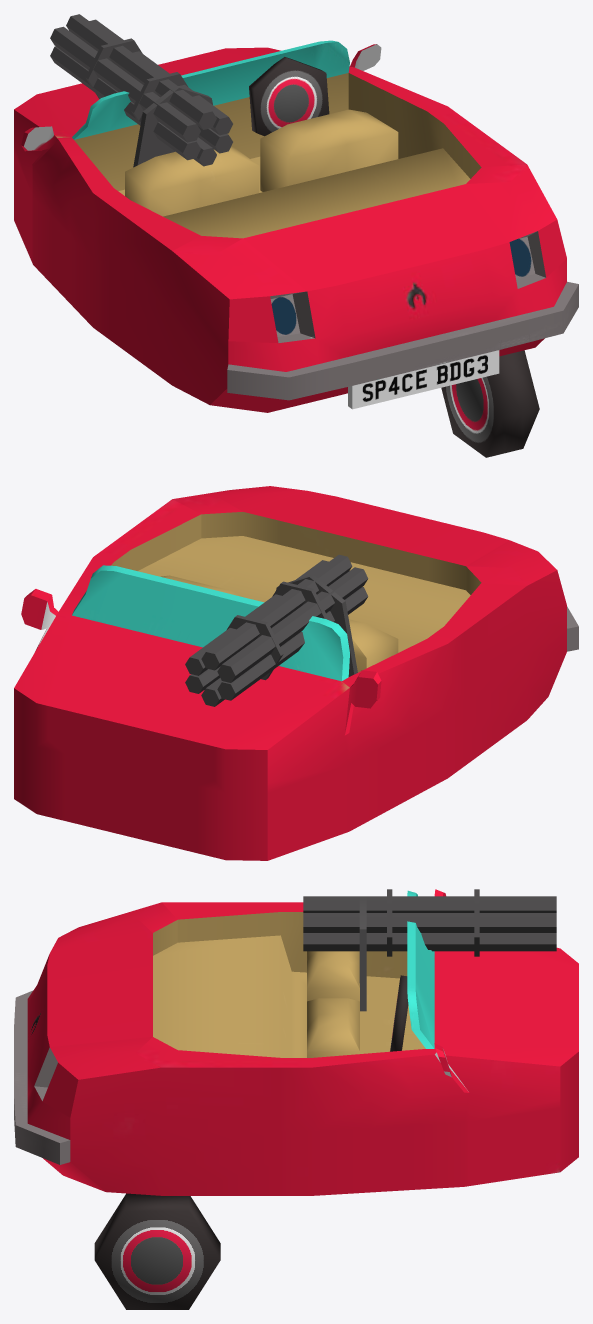
Rendered from car.fbx.
3 views of the same model, one above another, from view 1: azimuth 30°, elevation 25°; view 2: azimuth 150°, elevation 25°; view 3: azimuth 270°, elevation 25° (orthographic). The views are drawn at different scales.
Visible parts, largest first — view 1: polySurface3, pCylinder10; view 2: polySurface3; view 3: polySurface3, pCylinder10.
Boxes of the visible parts, x1,y1,x2,y2 form: polySurface3: [14, 14, 578, 412]; pCylinder10: [441, 350, 539, 457]; polySurface3: [14, 486, 578, 860]; polySurface3: [14, 889, 578, 1195]; pCylinder10: [94, 1193, 220, 1309].
Bounding box in the file's own units: 8.17 × 7.13 × 11.76.
